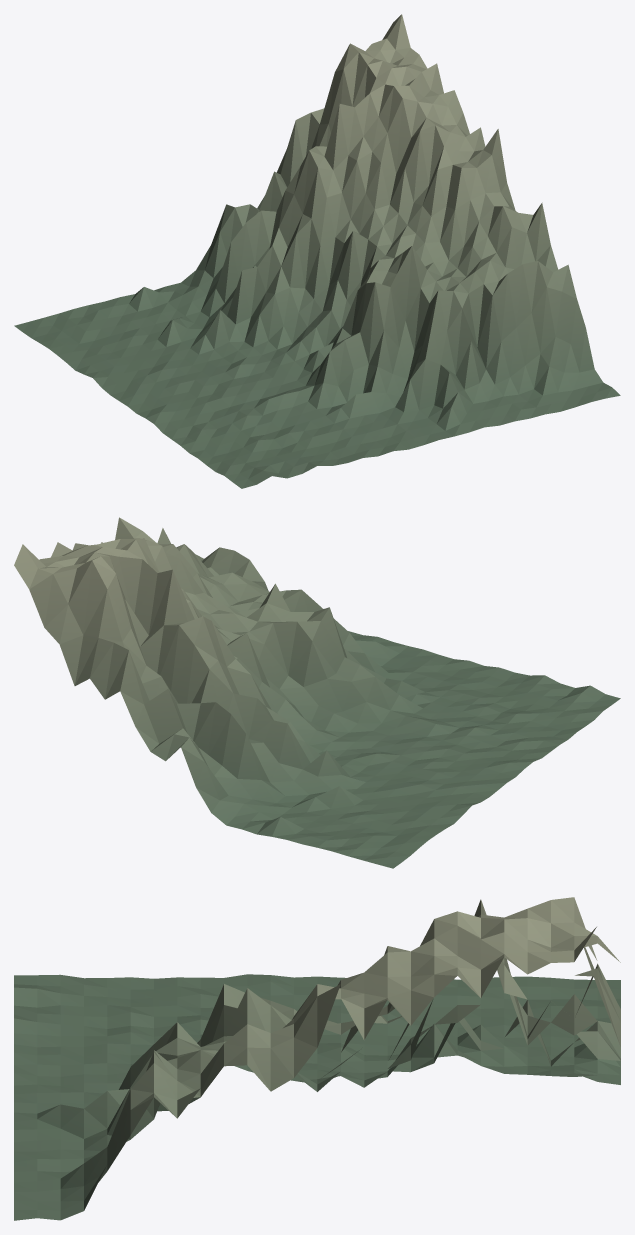
The model's file is tile_1_3.glb.
The picture shows the model from 3 angles, top to bottom: view 1: azimuth 30°, elevation 25°; view 2: azimuth 150°, elevation 25°; view 3: azimuth 270°, elevation 25°; orthographic projection. The views are drawn at different scales.
Parts seen in each view (by area): view 1: geometry_0; view 2: geometry_0; view 3: geometry_0.
Boxes of the visible parts, left/top/right/bottom form: geometry_0: left=14, top=14, right=620, bottom=488; geometry_0: left=14, top=517, right=620, bottom=868; geometry_0: left=14, top=897, right=620, bottom=1220.
Bounding box in the file's own units: 123 × 69.89 × 127.
